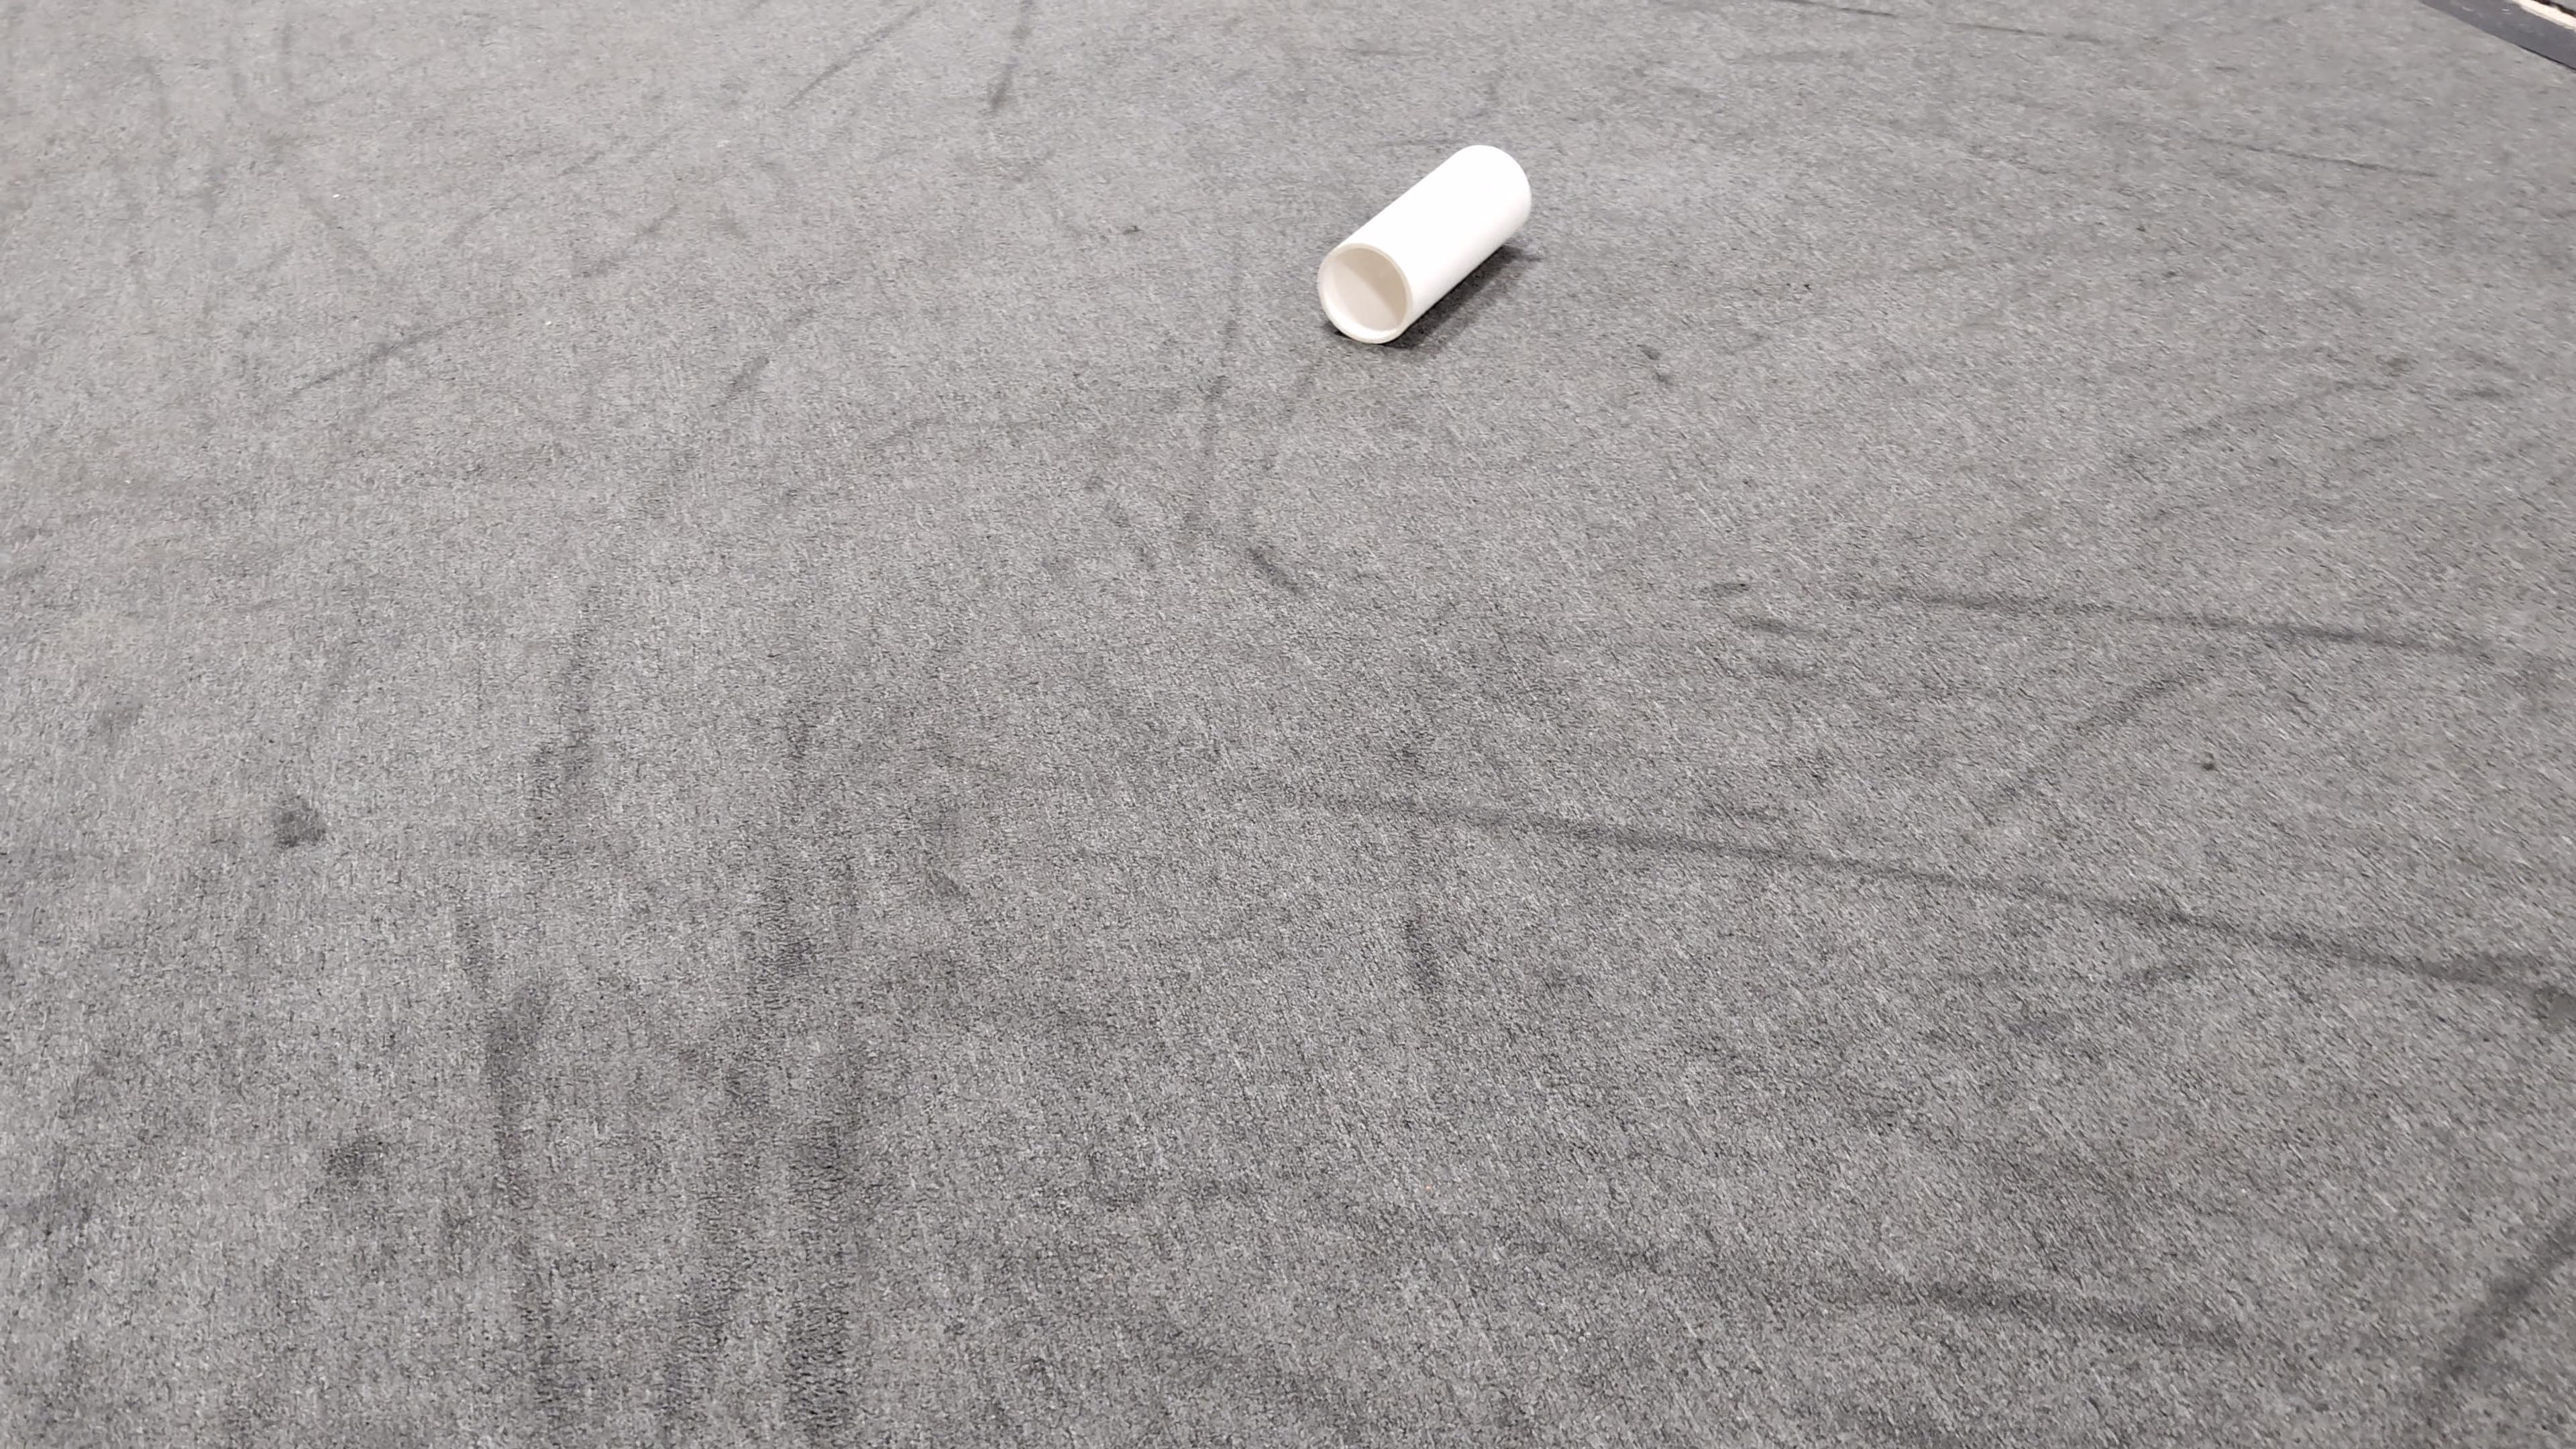coral: (1320, 145, 1530, 349)
